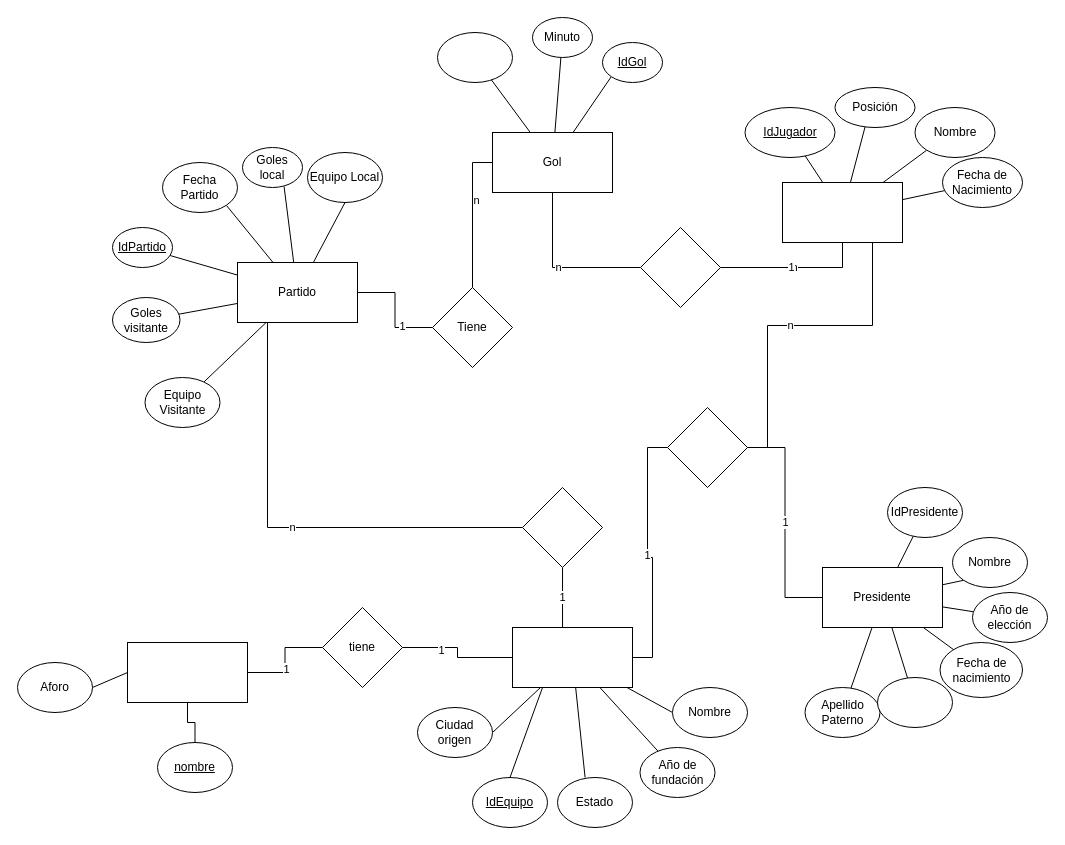
Image size: 1065x845. Some labels were removed from this diagram. The shapes that lost their labels are listed below. From the top down, each one's centre as x and y in pixels, then its label:
At pixel 474 57: "Descripción".
At pixel 842 212: "Jugador".
At pixel 680 267: "Realiza".
At pixel 707 447: "Tienen".
At pixel 562 527: "Juega".
At pixel 187 672: "Estadio".
At pixel 572 657: "Equipo".
At pixel 914 702: "Apellido Materno".
